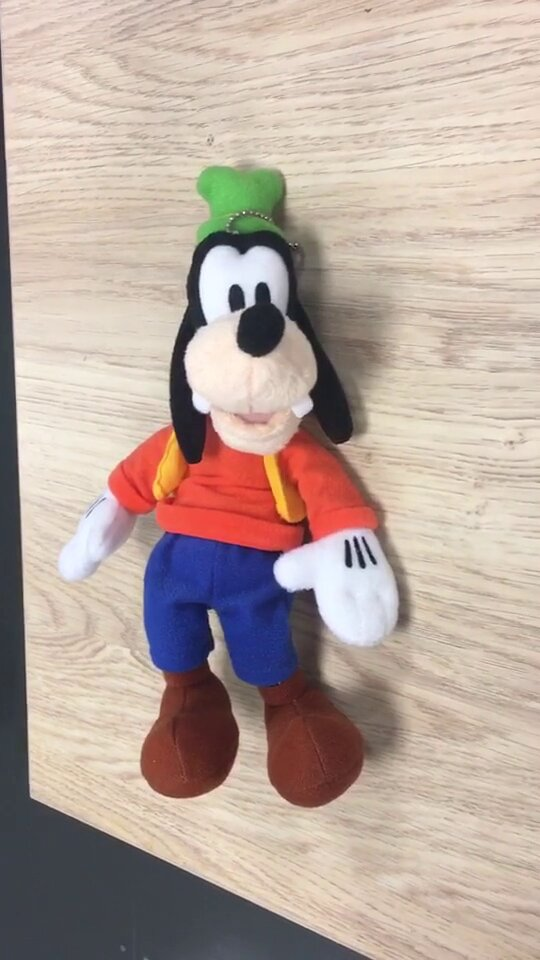goofy: (53, 159, 405, 809)
